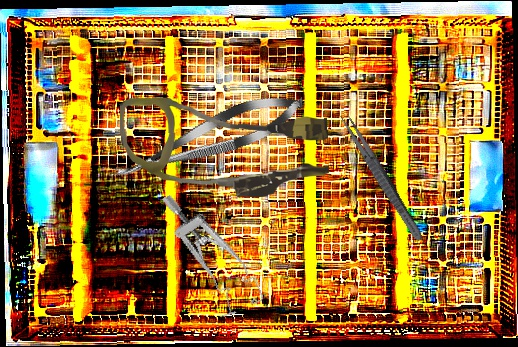Cannula: (119, 91, 330, 202)
Dressing Forceps: (336, 111, 427, 244)
Micro Scissor: (103, 82, 311, 195)
Speculum: (161, 177, 265, 323)
